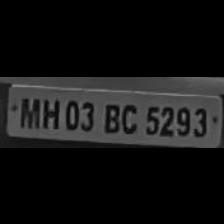0: (62, 94, 78, 130)
2: (157, 100, 173, 136)
3: (76, 96, 96, 132), (190, 102, 208, 136)
5: (140, 100, 162, 134)
9: (174, 102, 190, 136)
B: (100, 97, 122, 132)
C: (119, 97, 139, 132)
H: (40, 94, 60, 128)
M: (16, 93, 38, 127)
